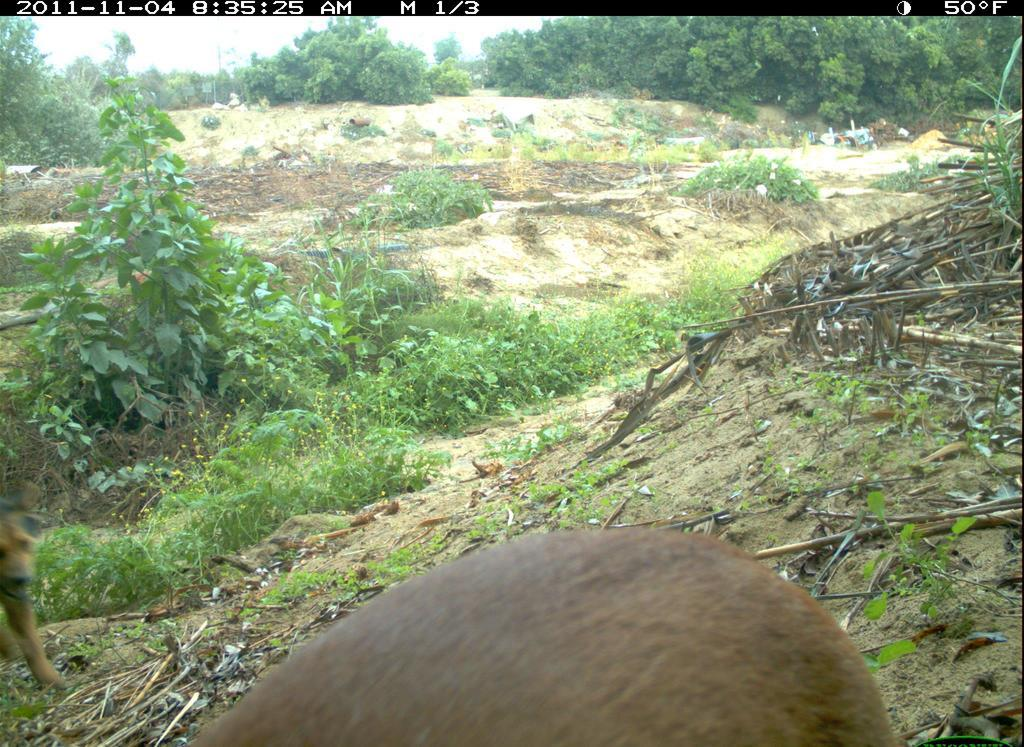dog: (152, 515, 912, 747), (1, 484, 76, 703)
